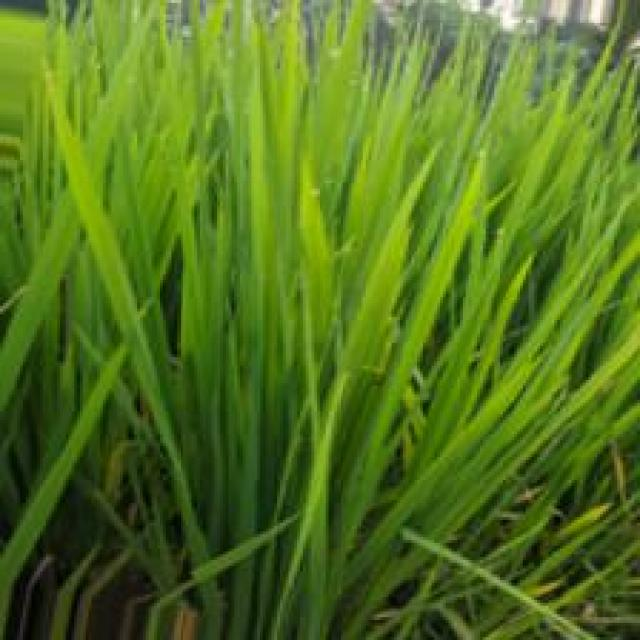HealthyLeaf: (64, 9, 316, 315), (323, 58, 496, 269)
